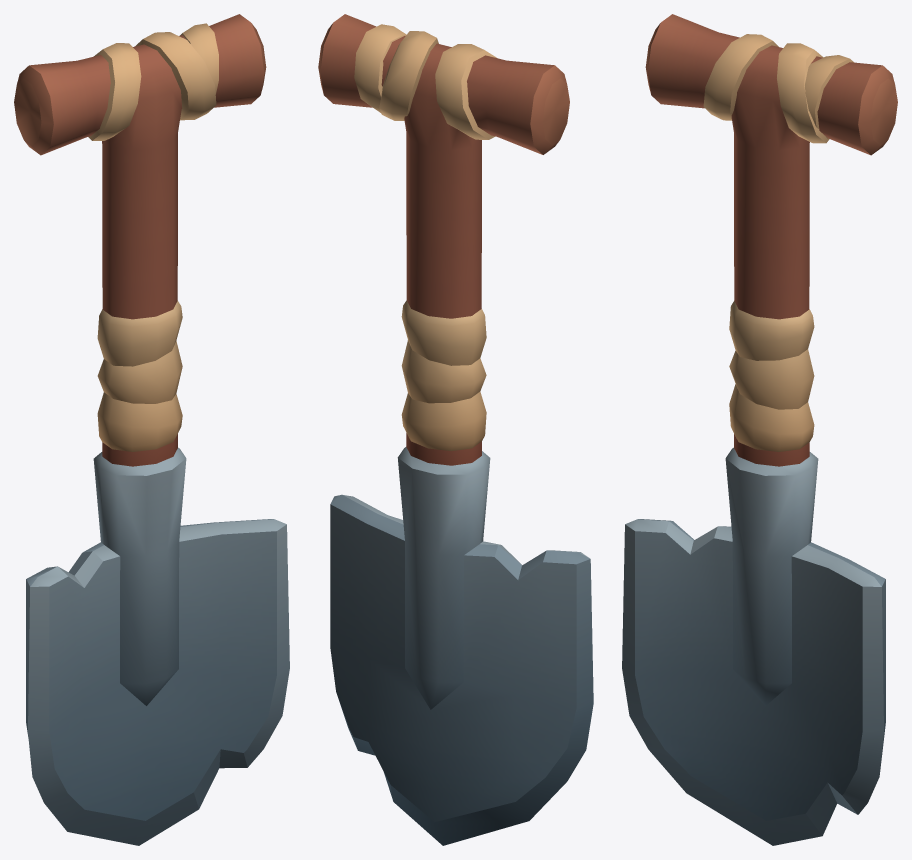
File: shovel.glb
3 renders of one model, left to right at view 1: azimuth 30°, elevation 25°; view 2: azimuth 150°, elevation 25°; view 3: azimuth 330°, elevation 25°, orthographic.
Parts seen in each view (by area): view 1: shovel; view 2: shovel; view 3: shovel.
Boxes of the visible parts, bbox=[...] form: shovel: bbox=[14, 14, 289, 845]; shovel: bbox=[318, 14, 593, 845]; shovel: bbox=[622, 14, 897, 845].
Bounding box in the file's own units: 0.5381 × 1.58 × 0.1563.
1 material, 1 textured.
